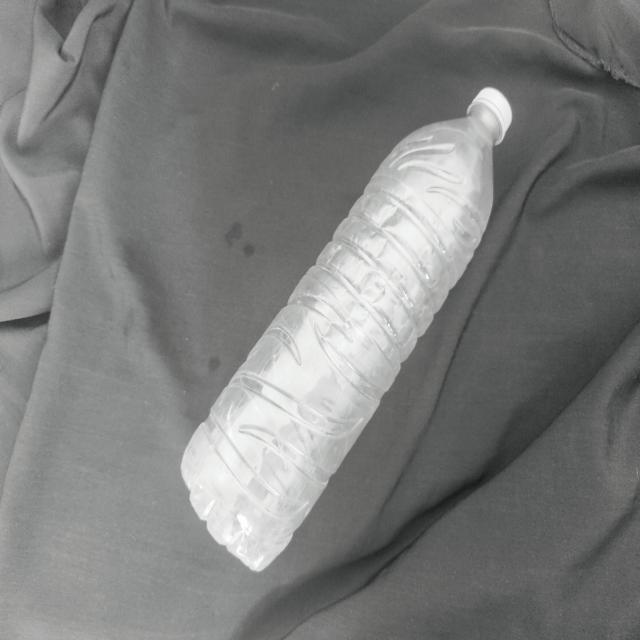plastic: (185, 85, 513, 576)
